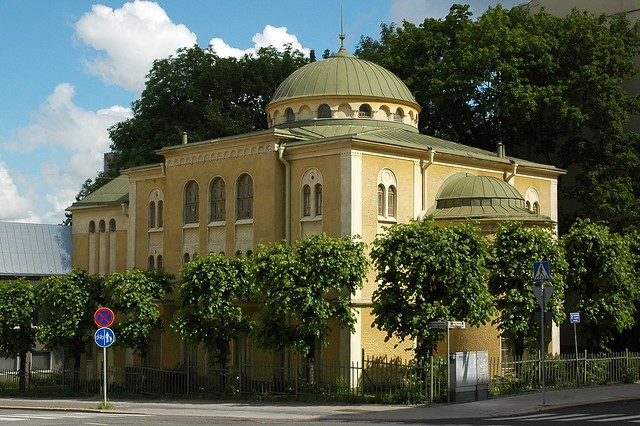medium: (63, 49, 569, 401)
